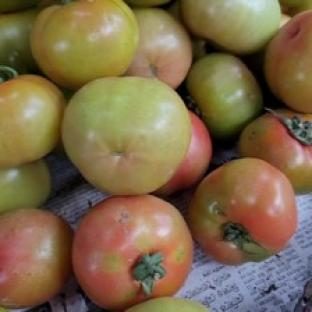Tomato: (62, 77, 190, 194), (73, 194, 193, 310), (189, 158, 298, 264), (0, 208, 73, 309), (186, 52, 263, 140), (0, 69, 66, 168), (239, 109, 311, 193), (126, 7, 192, 89), (155, 111, 213, 196), (0, 159, 51, 213), (0, 9, 37, 73), (126, 297, 208, 311)
